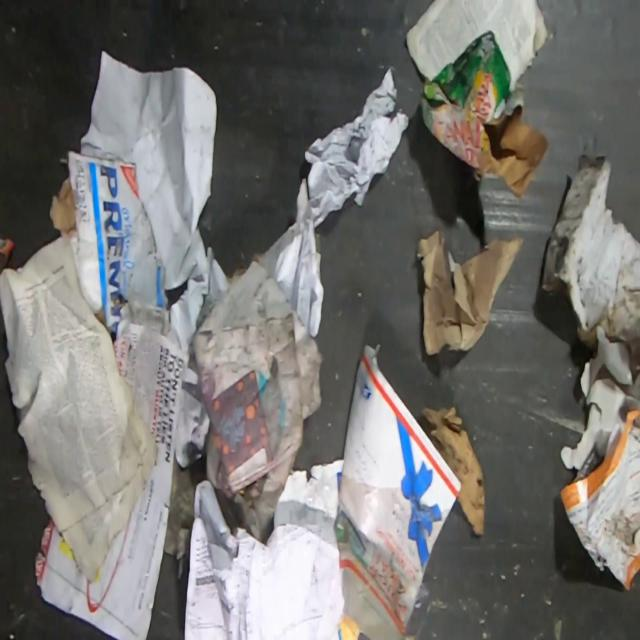cardboard: (335, 341, 463, 639), (48, 149, 168, 340), (422, 25, 550, 204), (422, 402, 487, 536)
